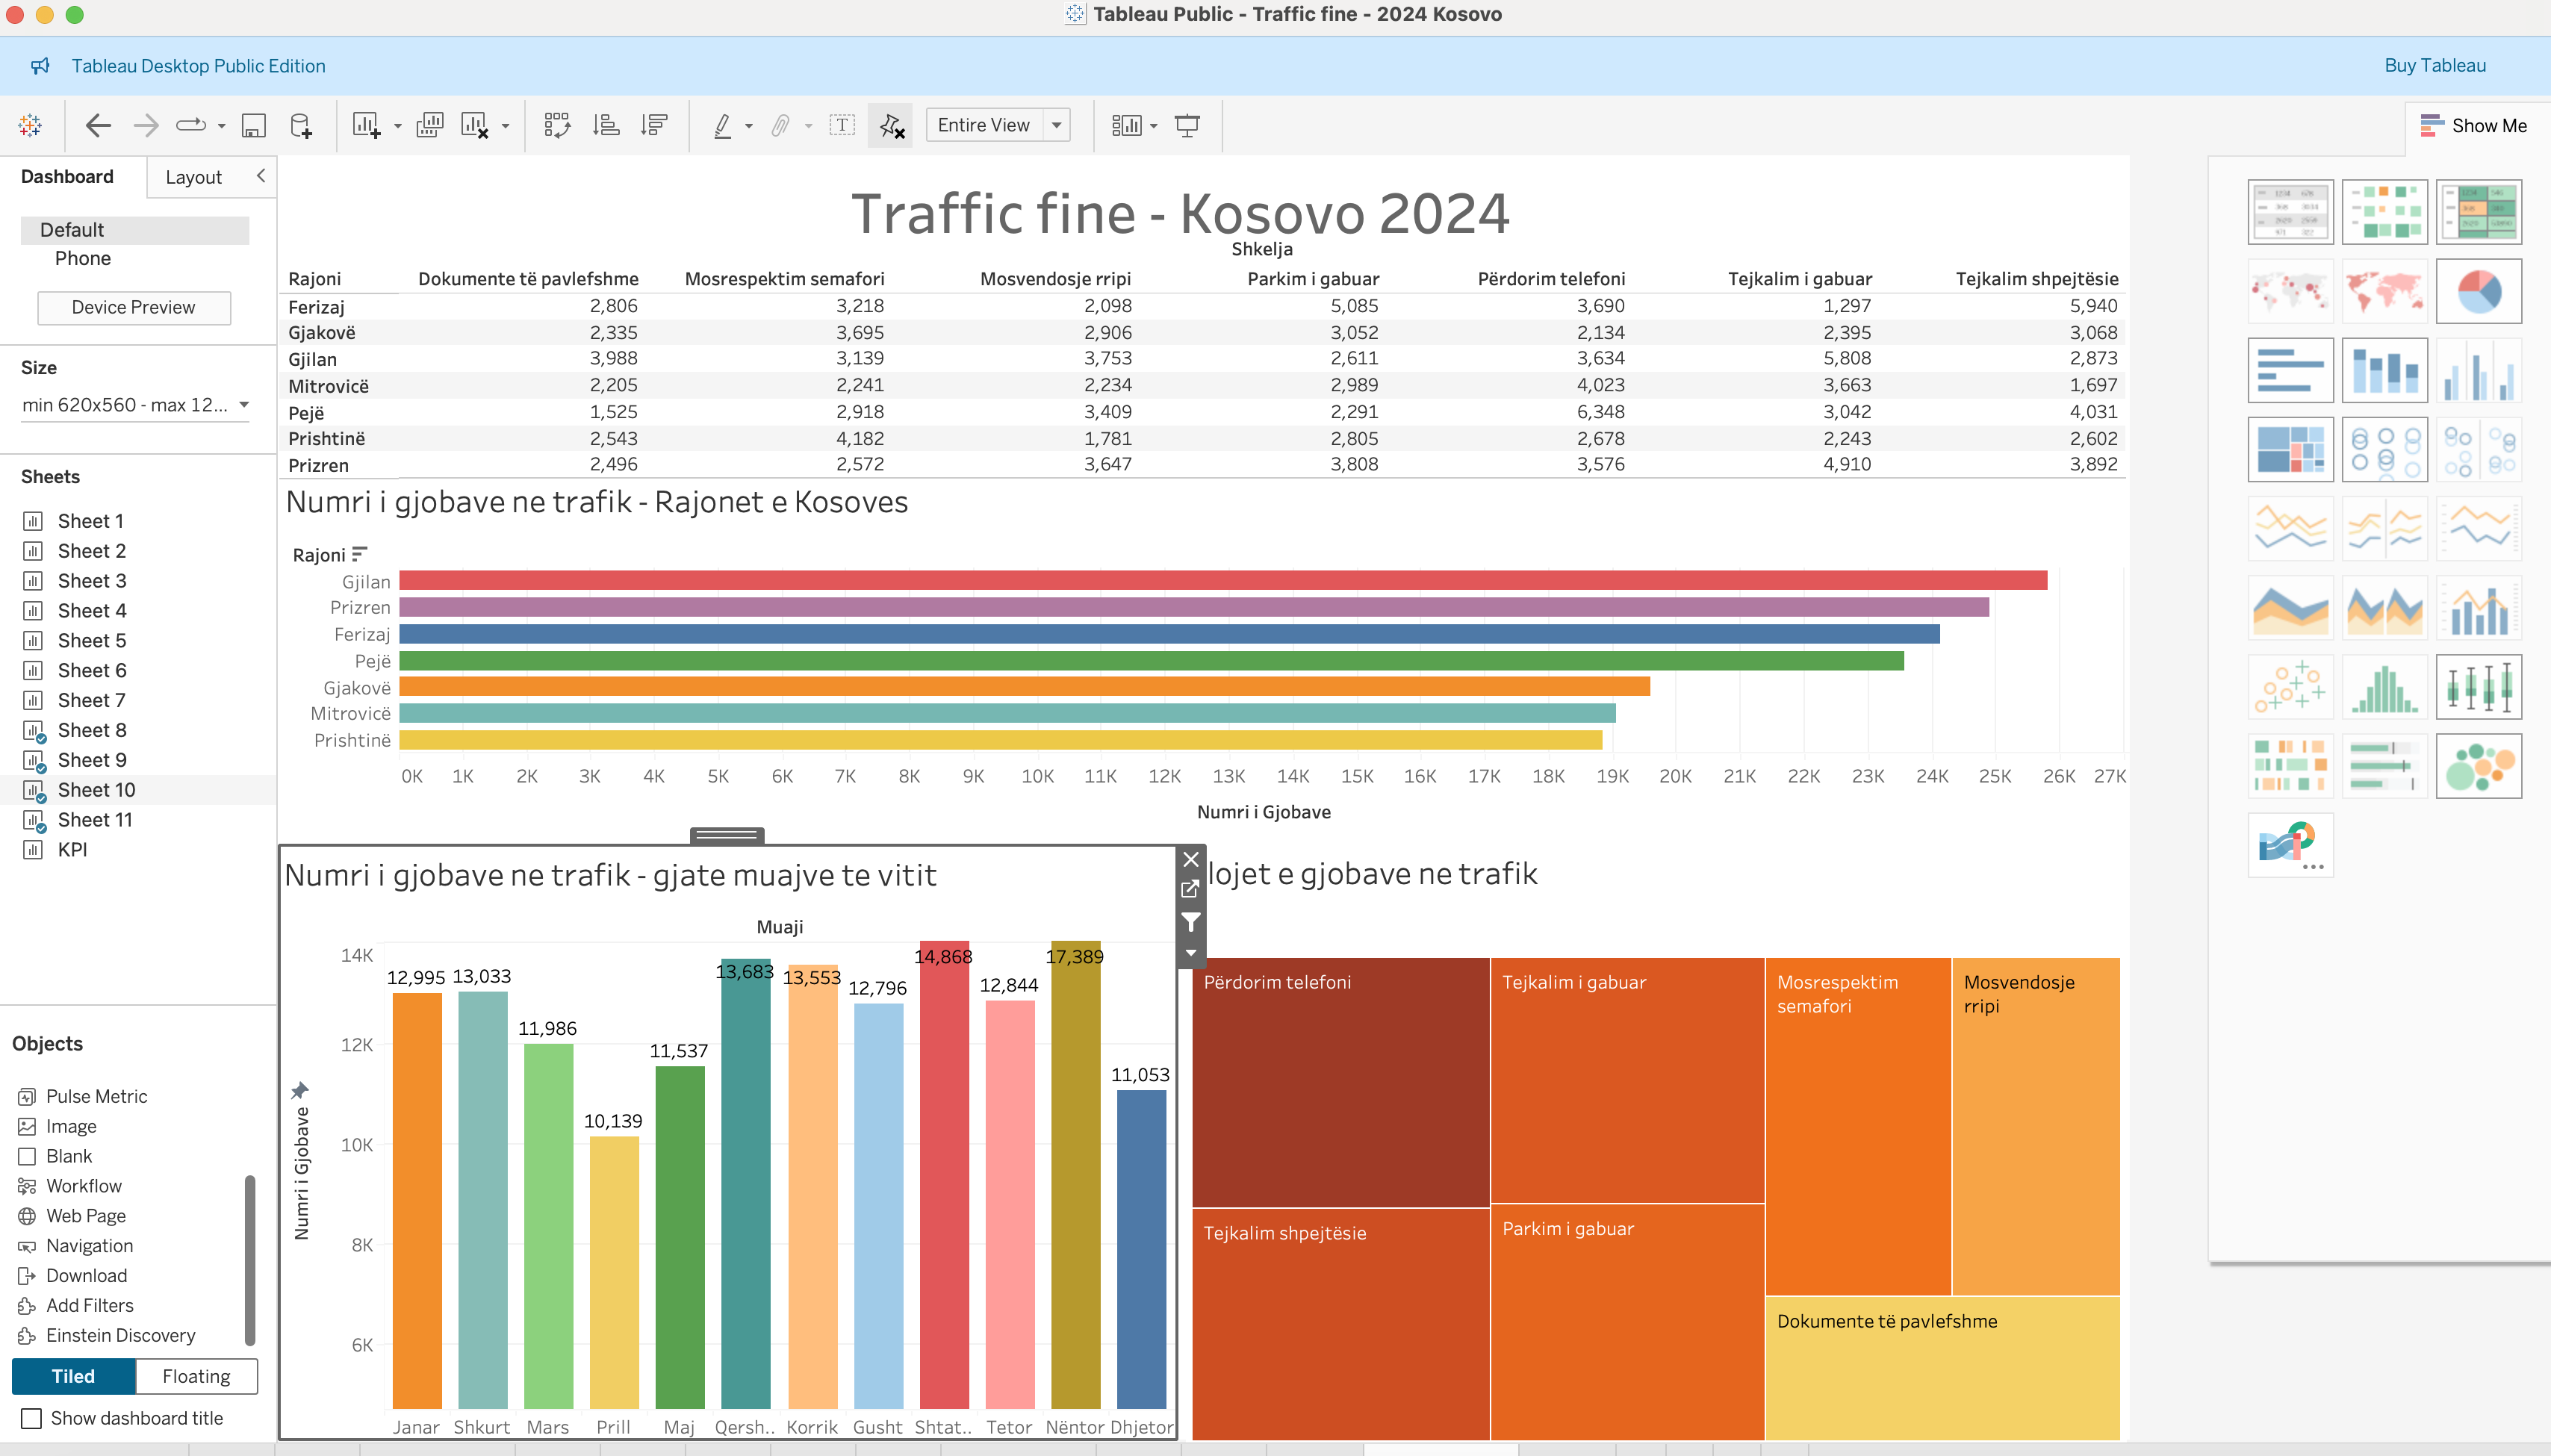

This screenshot's page, from the dashboard's own definition file:
{"tool":"tableau","page":{"name":"Dashboard 3","canvas":[1000,1000],"units":"permille","ordinal":2},"visuals":[{"type":"text","box":[29.8,5.8,915.5,74.4]},{"type":"worksheet","title":"Sheet 11","mark":"Automatic","rows":["Rajoni"],"cols":["Shkelja"],"box":[1.2,43,997.6,209.3]},{"type":"worksheet","title":"Sheet 8","mark":"Automatic","rows":["Rajoni"],"cols":["Numri i Gjobave"],"box":[1.2,247.7,998.8,281.4]},{"type":"worksheet","title":"Sheet 10","mark":"Automatic","rows":["Numri i Gjobave"],"cols":["Muaji"],"box":[0,538.4,484.5,462.8]}]}

Visuals, with their boxes on the dashboard's canvas, which has no fixed pixel size, in thousandths of its width and height (x1, y1, x2, y2). These are canvas units, not pixel positions in the 2551x1456 screenshot, which may show the page scaled, cropped or inside an application window:
text: rect(30, 6, 945, 80)
"Sheet 11" worksheet: rect(1, 43, 999, 252)
"Sheet 8" worksheet: rect(1, 248, 1000, 529)
"Sheet 10" worksheet: rect(0, 538, 484, 1001)
